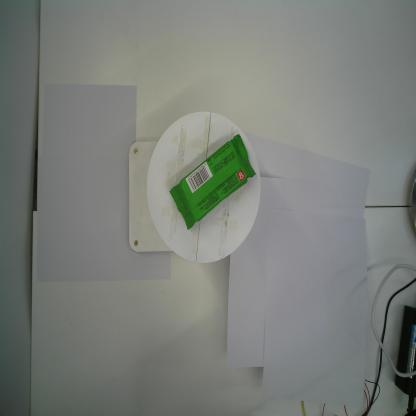Dessert: (168, 133, 257, 233)
